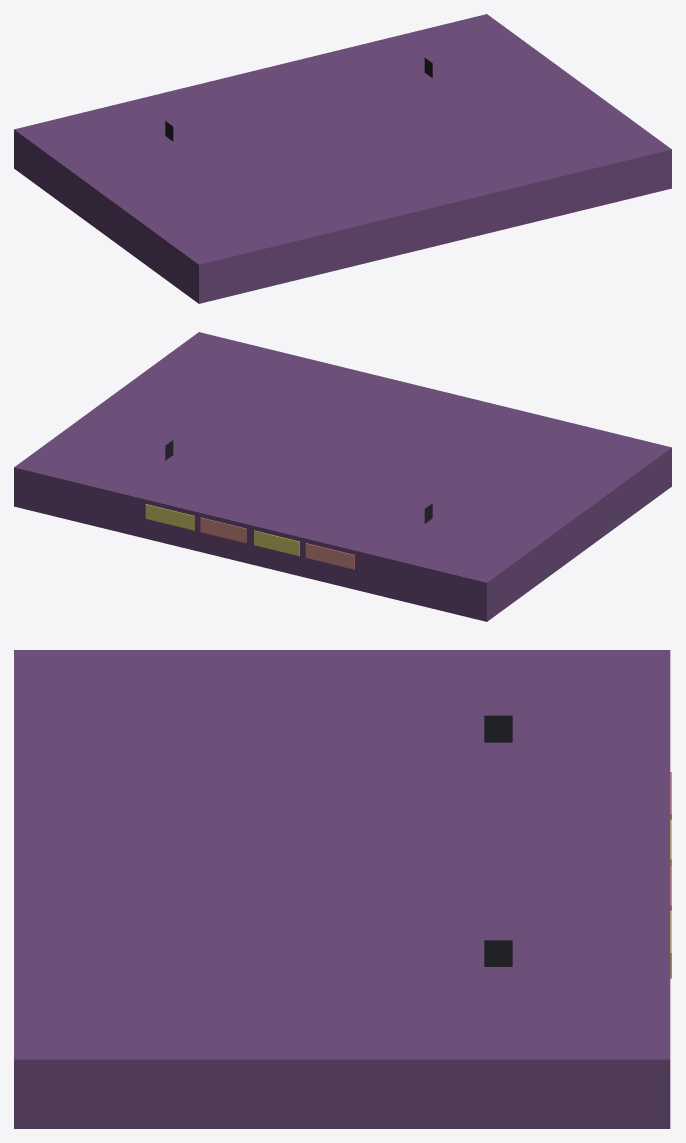
File: PLay place.glb
The picture shows the model from 3 angles, top to bottom: view 1: azimuth 30°, elevation 25°; view 2: azimuth 150°, elevation 25°; view 3: azimuth 270°, elevation 25°; orthographic projection. The views are drawn at different scales.
Parts seen in each view (by area): view 1: HPP_RoomShell; view 2: HPP_RoomShell, UpperBox_0, UpperBox_3, UpperBox_2, UpperBox_1; view 3: HPP_RoomShell, SafetyNet_3, SafetyNet_2.
Part boxes in pixels (<box>): HPP_RoomShell: <box>14,14,671,303</box>; HPP_RoomShell: <box>14,332,671,621</box>; UpperBox_0: <box>305,543,354,569</box>; UpperBox_3: <box>145,504,194,530</box>; UpperBox_2: <box>200,517,246,542</box>; UpperBox_1: <box>254,530,299,556</box>; HPP_RoomShell: <box>14,650,670,1128</box>; SafetyNet_3: <box>484,715,512,742</box>; SafetyNet_2: <box>484,940,512,966</box>.
Size of the model in its own units: 62 by 10 by 42.1.
